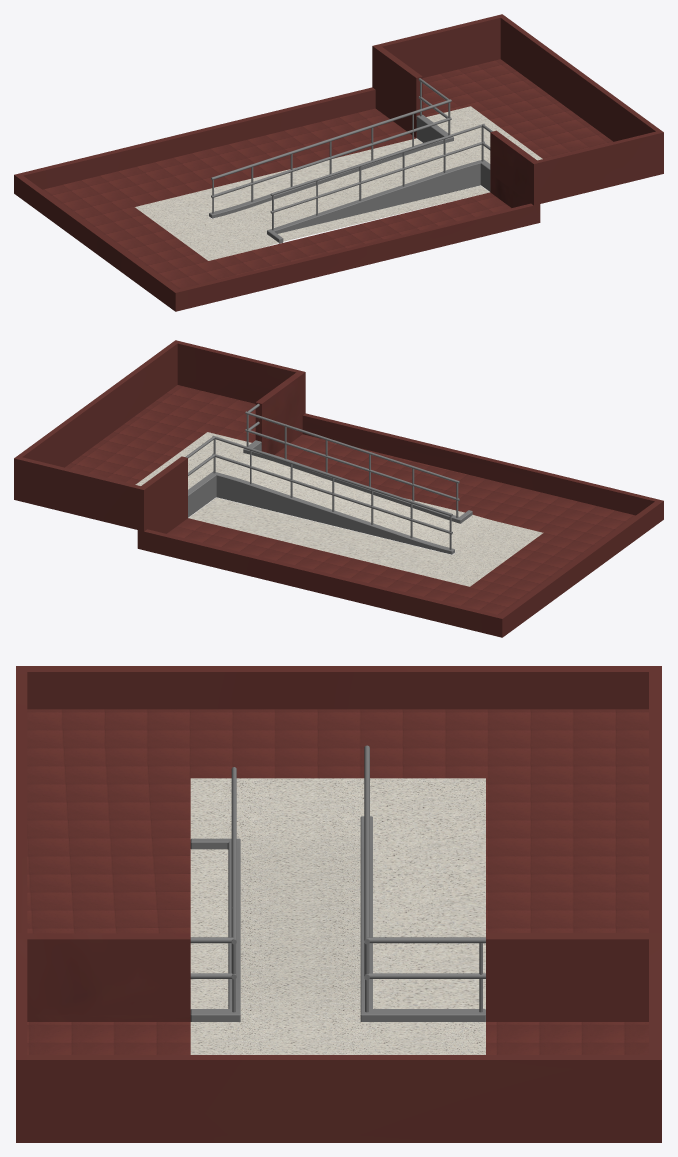
Rendered from irglm_lindsay_ramp.gltf.
3 renders of one model, top to bottom at view 1: azimuth 30°, elevation 25°; view 2: azimuth 150°, elevation 25°; view 3: azimuth 270°, elevation 25°, orthographic. The views are drawn at different scales.
Visible parts, largest first — view 1: red_walls, red_floor, Floor, ramp_walls, Cylinder.013, Cylinder.014, Cylinder.015, Cylinder.016; view 2: red_walls, red_floor, Floor, ramp_walls, Cylinder.013, Cylinder.014, Cylinder.015, Cylinder.016; view 3: red_walls, red_floor, Floor, ramp_walls, Cylinder.013, Cylinder.015, Cylinder.018, Cylinder.019.
Boxes of the visible parts, x1=… form: red_walls: x1=14, y1=14, x2=663, y2=311; red_floor: x1=42, y1=59, x2=613, y2=289; Floor: x1=135, y1=106, x2=542, y2=260; ramp_walls: x1=209, y1=114, x2=490, y2=243; Cylinder.013: x1=211, y1=99, x2=451, y2=180; Cylinder.014: x1=211, y1=117, x2=451, y2=197; Cylinder.015: x1=270, y1=124, x2=484, y2=195; Cylinder.016: x1=270, y1=141, x2=484, y2=213; red_walls: x1=14, y1=340, x2=663, y2=637; red_floor: x1=65, y1=385, x2=635, y2=614; Floor: x1=135, y1=432, x2=543, y2=586; ramp_walls: x1=188, y1=440, x2=472, y2=554; Cylinder.013: x1=212, y1=435, x2=452, y2=516; Cylinder.014: x1=212, y1=453, x2=452, y2=534; Cylinder.015: x1=245, y1=411, x2=459, y2=483; Cylinder.016: x1=245, y1=429, x2=459, y2=500; red_walls: x1=16, y1=666, x2=661, y2=1142; red_floor: x1=27, y1=709, x2=648, y2=1054; Floor: x1=190, y1=778, x2=485, y2=1054; ramp_walls: x1=190, y1=816, x2=485, y2=1021; Cylinder.013: x1=364, y1=745, x2=369, y2=944; Cylinder.015: x1=231, y1=767, x2=236, y2=944; Cylinder.018: x1=367, y1=937, x2=485, y2=943; Cylinder.019: x1=368, y1=973, x2=485, y2=978.
Bounding box in the file's own units: 13.82 × 1.63 × 7.92.
Materials: 3 (2 with a texture image).
